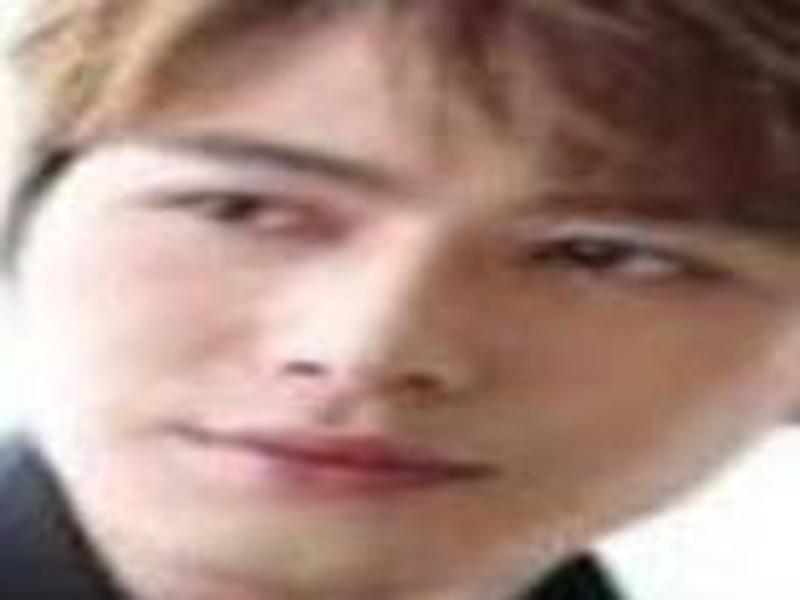without_mask: (17, 116, 798, 590)
